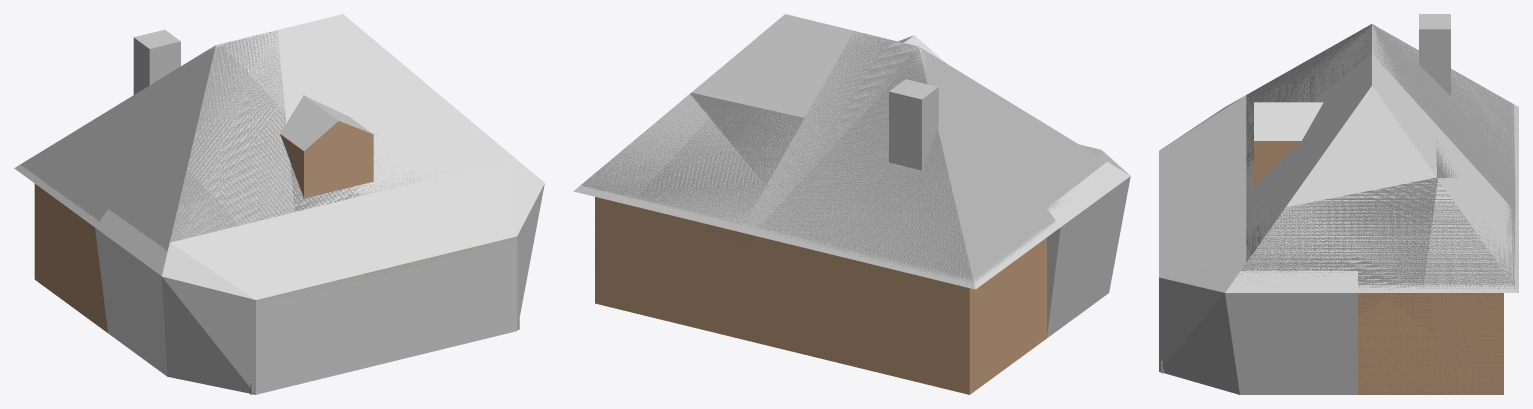
The model's file is bld_house_b.glb.
The picture shows the model from 3 angles, left to right: view 1: azimuth 30°, elevation 25°; view 2: azimuth 150°, elevation 25°; view 3: azimuth 270°, elevation 25°; orthographic projection. The views are drawn at different scales.
Visible parts, largest first — view 1: damaged, intact, chunk_00, chunk_01, chunk_02; view 2: damaged, intact, chunk_03, chunk_02, chunk_00, chunk_07; view 3: intact, damaged, chunk_01, chunk_03, chunk_00, chunk_02, chunk_07.
Part boxes in pixels (left/top/right/bottom): damaged: left=20, top=29, right=419, bottom=332; intact: left=170, top=14, right=519, bottom=394; chunk_00: left=95, top=206, right=361, bottom=394; chunk_01: left=318, top=158, right=544, bottom=368; chunk_02: left=14, top=165, right=107, bottom=332; damaged: left=581, top=31, right=1106, bottom=394; intact: left=581, top=17, right=973, bottom=393; chunk_03: left=573, top=185, right=808, bottom=354; chunk_02: left=801, top=220, right=1060, bottom=394; chunk_00: left=1047, top=144, right=1130, bottom=337; chunk_07: left=772, top=14, right=877, bottom=49; intact: left=1161, top=24, right=1515, bottom=394; damaged: left=1235, top=14, right=1515, bottom=394; chunk_01: left=1159, top=167, right=1357, bottom=394; chunk_03: left=1358, top=184, right=1518, bottom=394; chunk_00: left=1159, top=95, right=1246, bottom=201; chunk_02: left=1513, top=105, right=1518, bottom=187; chunk_07: left=1369, top=44, right=1399, bottom=125.
Size of the model in its own units: 11 by 7 by 9.
